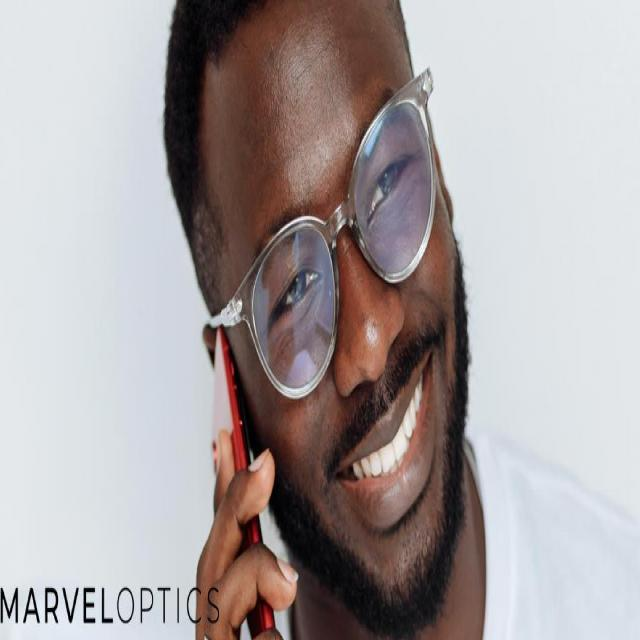Glasses: (212, 62, 439, 403)
